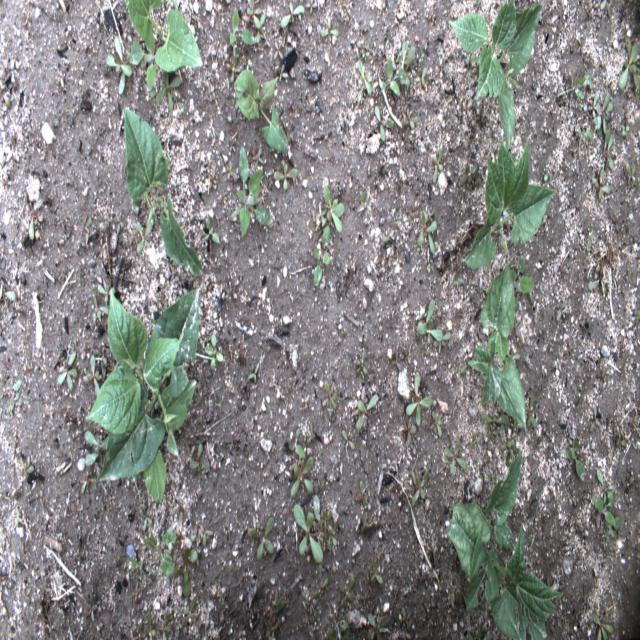crop: (86, 284, 200, 508), (447, 448, 561, 639), (123, 106, 203, 277), (448, 1, 541, 142), (462, 140, 556, 269), (462, 262, 525, 428), (127, 1, 203, 70), (232, 71, 292, 154), (146, 534, 175, 576)
weed: (230, 145, 271, 237), (128, 21, 166, 90), (293, 505, 325, 566), (107, 36, 133, 96), (592, 496, 622, 546), (407, 368, 432, 426), (416, 297, 443, 345), (247, 517, 275, 562), (618, 35, 640, 91), (174, 546, 198, 594), (229, 7, 258, 46), (324, 182, 345, 232), (290, 456, 314, 498), (155, 70, 181, 108), (314, 225, 330, 286), (416, 206, 435, 254), (380, 55, 401, 98), (565, 440, 587, 481), (355, 393, 379, 430), (480, 413, 510, 442), (185, 444, 211, 476), (59, 351, 79, 392), (85, 432, 109, 466), (443, 440, 468, 472), (203, 333, 223, 373), (375, 104, 395, 142), (279, 1, 308, 26), (597, 92, 613, 136), (398, 48, 416, 86), (591, 612, 615, 640), (593, 167, 612, 202), (366, 612, 391, 638), (273, 161, 298, 187), (357, 58, 371, 104), (412, 471, 430, 506), (596, 466, 613, 503), (85, 352, 99, 395), (288, 426, 306, 456), (136, 222, 152, 255), (587, 269, 606, 295), (524, 394, 538, 429), (181, 598, 197, 628), (246, 0, 263, 28), (154, 614, 172, 640), (302, 591, 318, 620), (576, 71, 592, 100), (432, 145, 444, 183), (92, 281, 116, 300), (116, 557, 141, 575), (204, 216, 221, 242), (587, 88, 600, 122), (138, 505, 153, 533), (603, 128, 613, 170), (466, 624, 492, 640), (92, 295, 110, 318), (401, 106, 419, 129), (9, 377, 23, 406), (325, 379, 338, 410), (429, 409, 442, 438), (398, 41, 408, 78), (327, 621, 347, 639), (342, 575, 354, 605), (30, 206, 40, 242), (356, 347, 368, 376), (326, 521, 338, 549), (252, 17, 264, 45), (0, 78, 11, 108), (461, 163, 478, 182), (624, 162, 638, 185), (342, 429, 356, 451), (267, 618, 282, 638), (143, 611, 155, 636), (358, 478, 366, 514), (197, 529, 213, 546), (316, 511, 332, 528), (590, 403, 600, 430), (368, 565, 382, 584), (469, 432, 483, 451), (499, 437, 517, 450), (414, 68, 427, 85), (360, 188, 371, 208), (314, 204, 325, 224), (318, 27, 339, 37), (248, 363, 260, 380), (96, 347, 108, 364), (80, 471, 88, 496), (306, 0, 320, 13), (586, 231, 594, 253), (599, 1, 610, 17), (360, 42, 370, 59), (402, 608, 410, 628), (306, 421, 312, 447), (162, 533, 176, 544), (621, 123, 629, 137), (616, 438, 626, 448), (322, 577, 330, 588), (15, 509, 20, 526), (530, 532, 535, 548), (418, 51, 424, 63), (455, 278, 460, 289)
